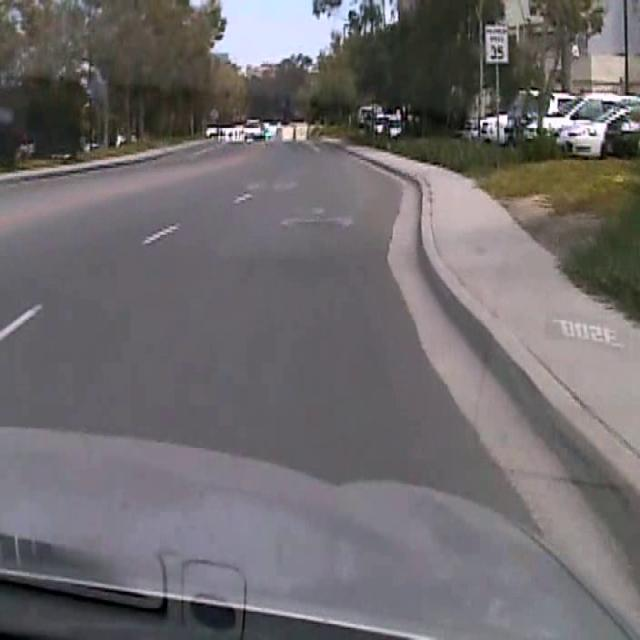speedLimit35: (485, 22, 508, 62)
